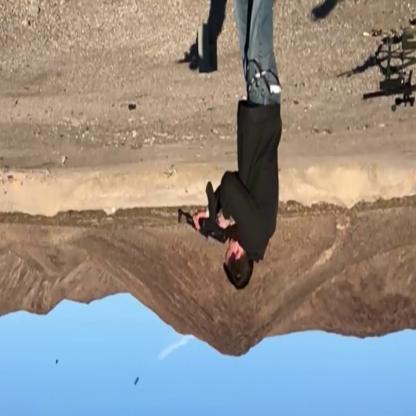long weapon: (169, 181, 251, 251), (342, 51, 415, 123)
